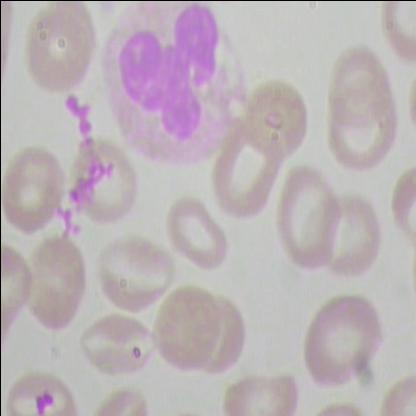RBC: (300, 290, 390, 390), (270, 162, 342, 272), (93, 233, 181, 318), (311, 190, 383, 284), (150, 279, 221, 374), (25, 1, 94, 96), (239, 72, 308, 167), (68, 136, 137, 230), (22, 238, 90, 333), (1, 141, 64, 238), (162, 187, 228, 279), (73, 312, 156, 380), (0, 364, 83, 415), (218, 370, 307, 415), (1, 240, 35, 335)
WBC: (96, 0, 256, 174)
